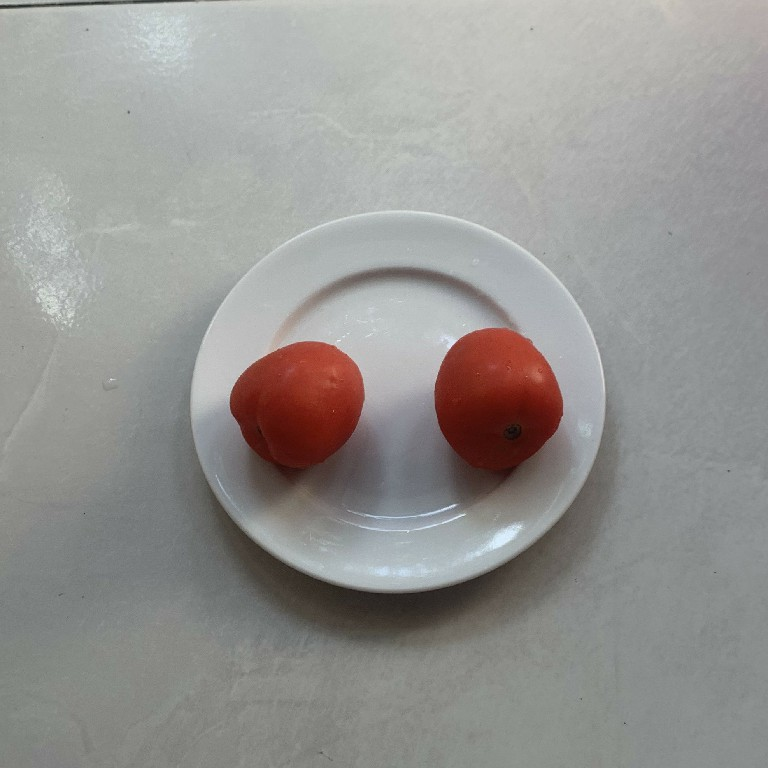OK: (428, 323, 561, 471), (228, 337, 370, 474)
